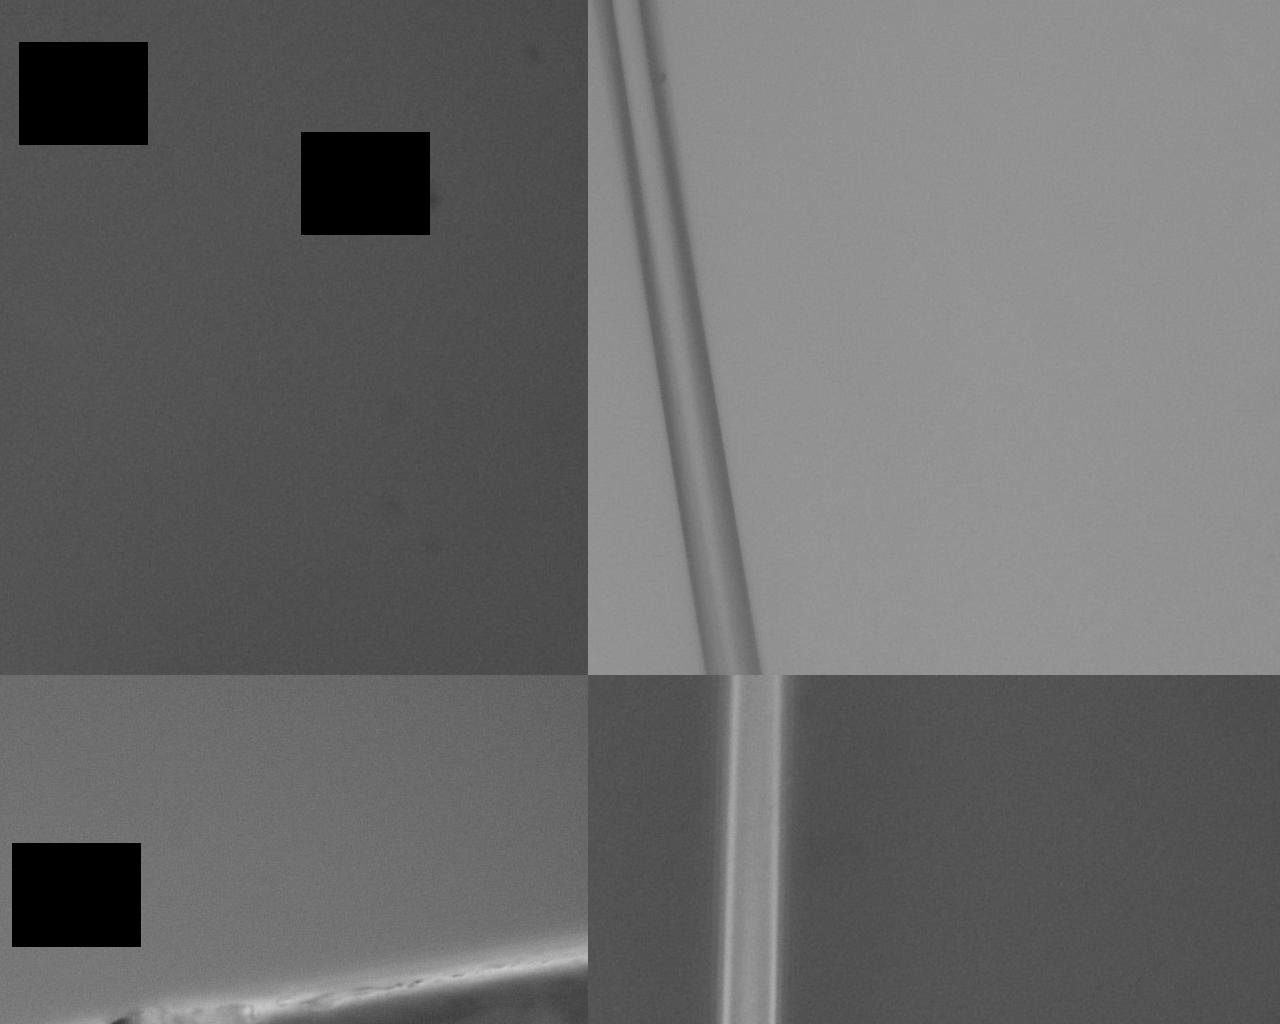fiber: (413, 0, 870, 675), (870, 0, 1280, 675), (599, 675, 870, 1024), (870, 675, 1141, 1024)
